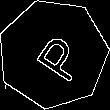P_NW: (22, 24, 85, 84)
